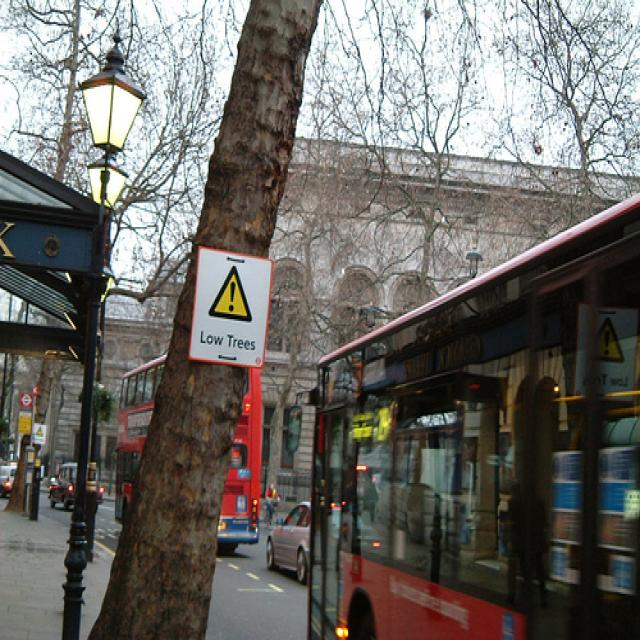Vehicle: (305, 192, 639, 630), (111, 348, 268, 560), (264, 501, 311, 584), (49, 461, 77, 508), (0, 465, 18, 494)
